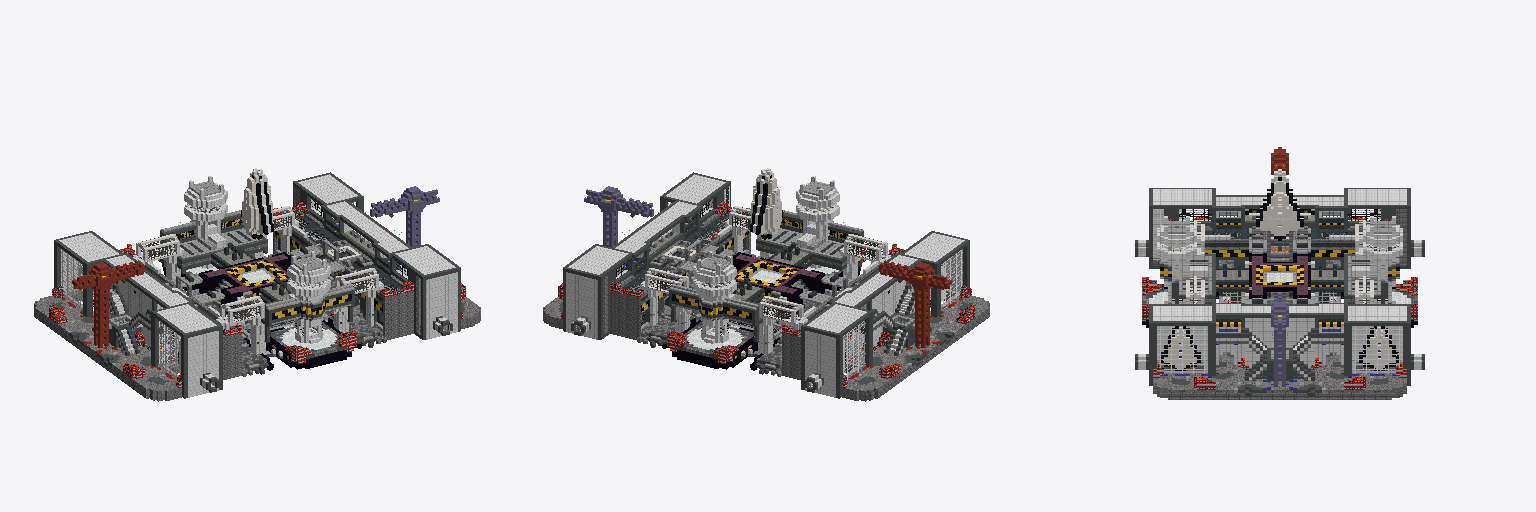
3 renders of one model, left to right at view 1: azimuth 30°, elevation 25°; view 2: azimuth 150°, elevation 25°; view 3: azimuth 270°, elevation 25°, orthographic.
Size of the model in its own units: 114 by 51 by 79.
86 materials, 83 textured.